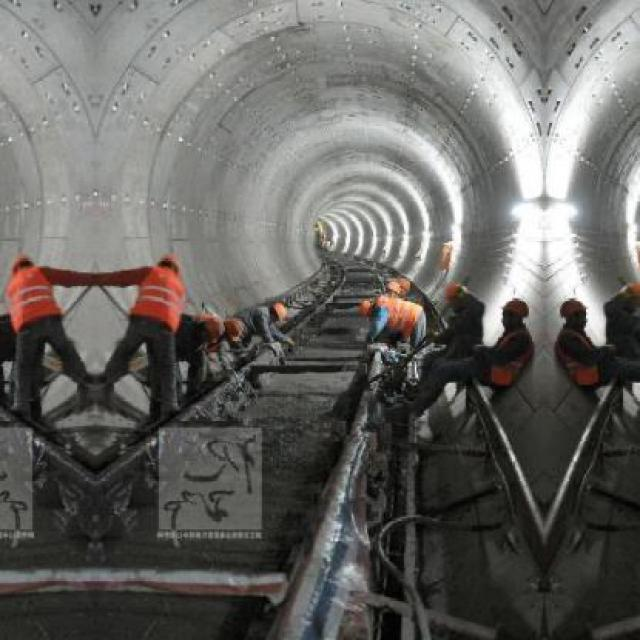reflective_jacket: (122, 264, 193, 340), (2, 264, 68, 337), (482, 324, 538, 393), (550, 324, 603, 392), (370, 295, 427, 338)
safety_helmet: (149, 246, 186, 275), (556, 294, 590, 323), (498, 294, 532, 320), (7, 247, 41, 272), (265, 297, 293, 324), (441, 275, 469, 302)
